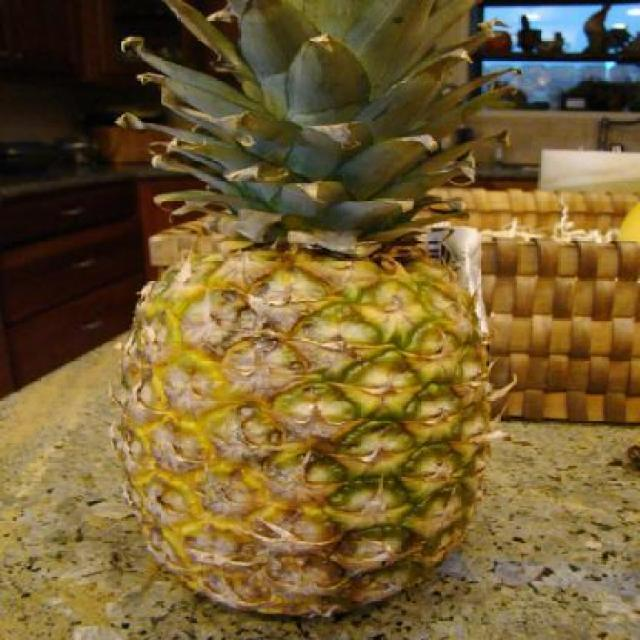Pineapple: (106, 0, 520, 622)
